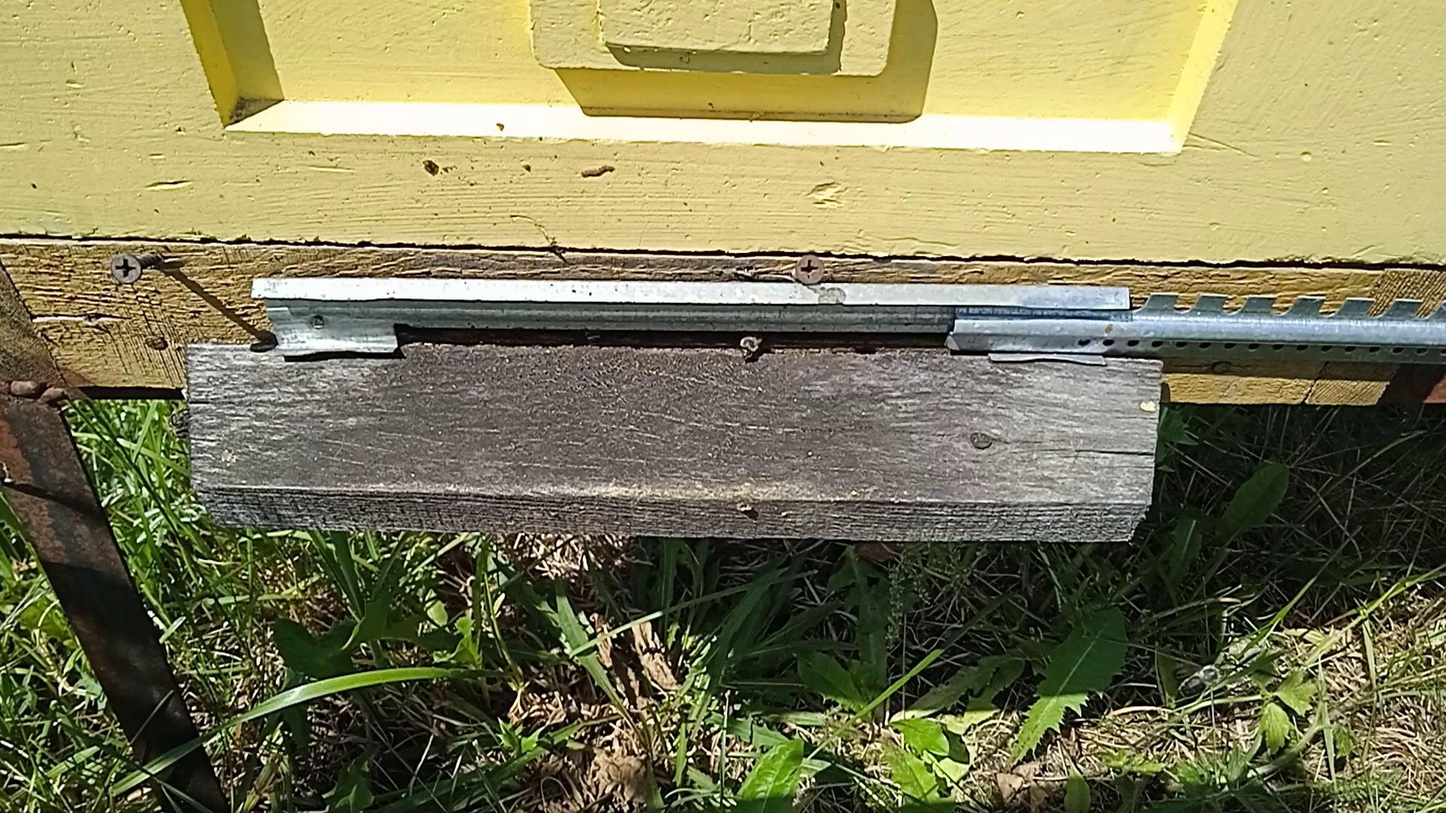worker-bee: (1178, 665, 1225, 695), (737, 331, 767, 358), (168, 406, 191, 440)
